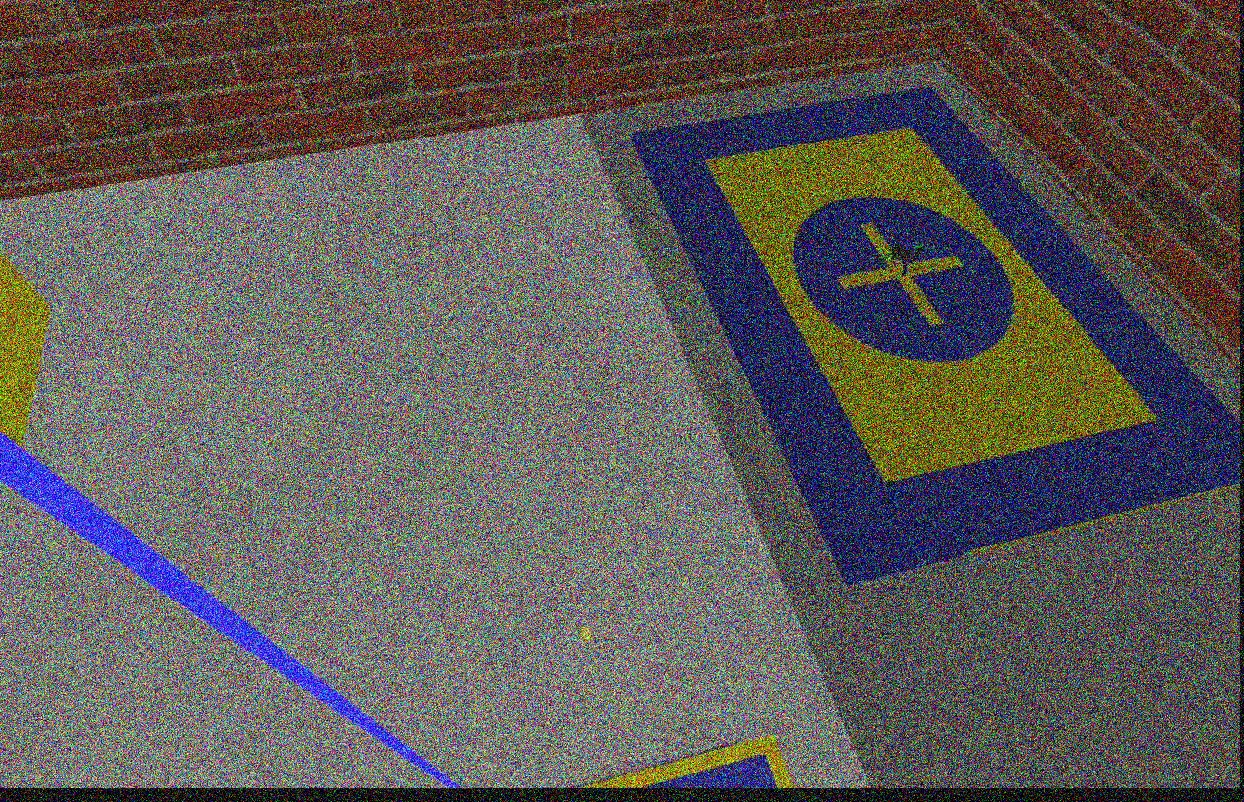large_base: (633, 85, 1242, 590)
